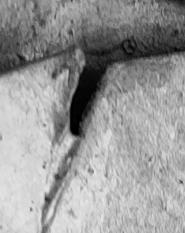crack: (1, 1, 185, 233)
